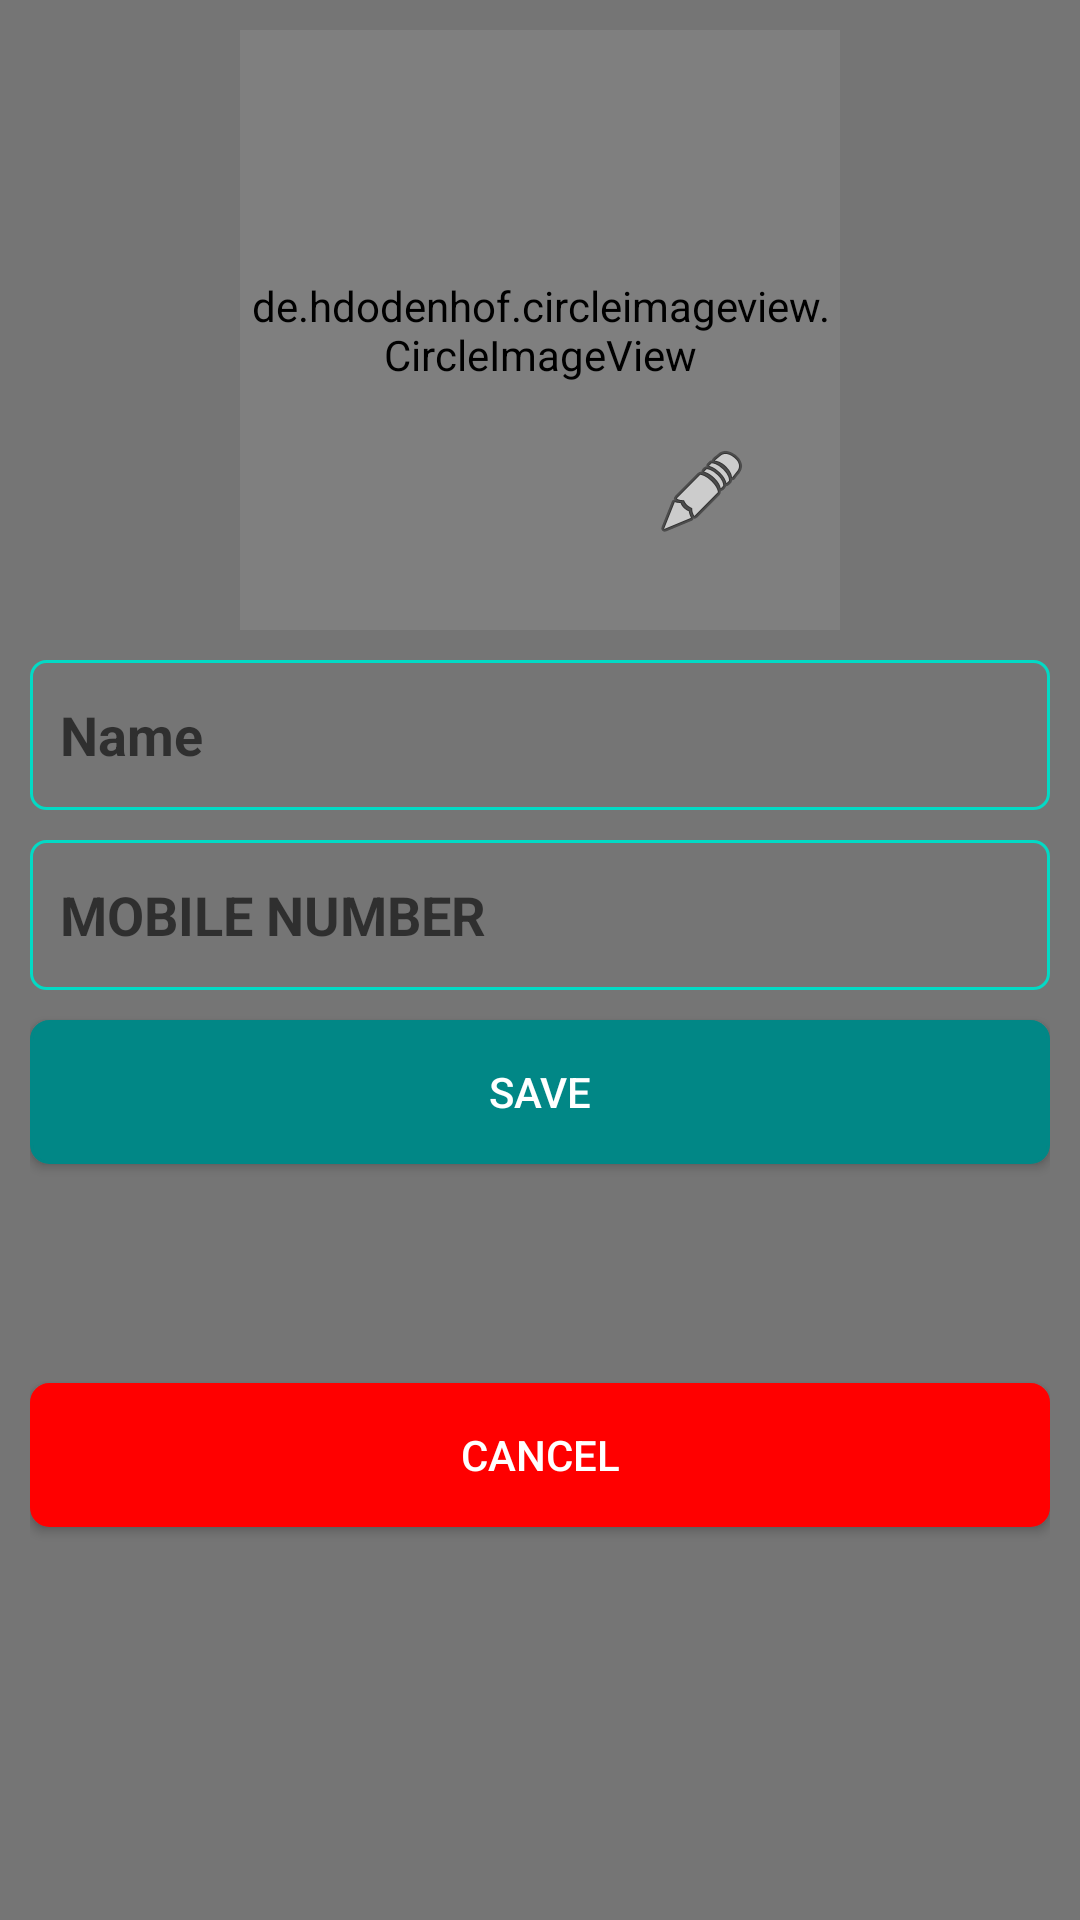

Icon click points for this 1080×1920 phone screenshot, format point (x, y):
edit: point (701, 491)
